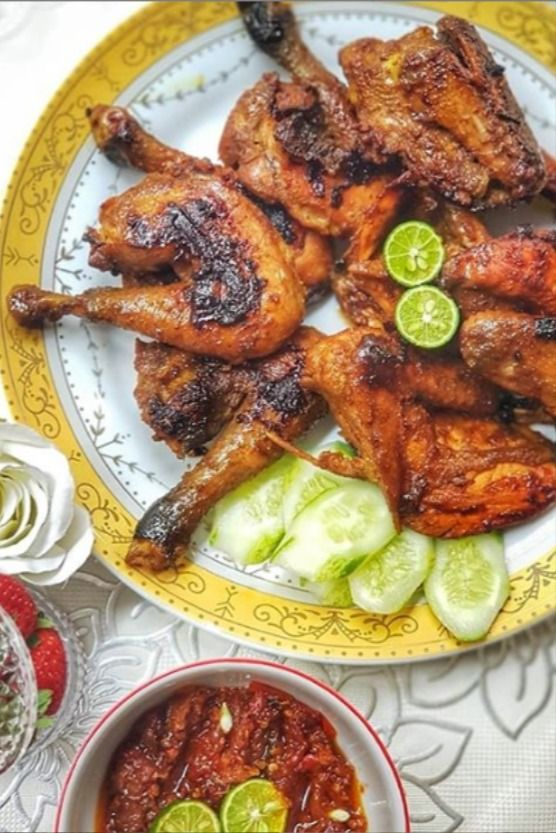Ayam: (11, 132, 315, 339), (193, 53, 411, 262), (330, 353, 544, 533), (373, 11, 554, 203)
